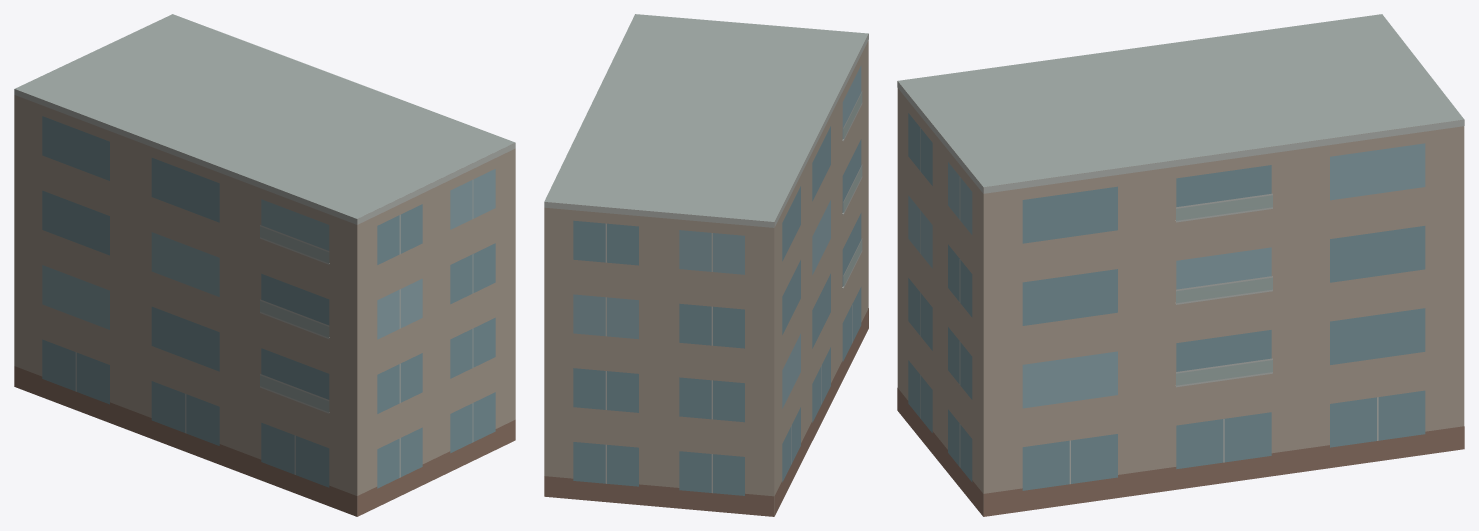
Rendered from survey-upis-32965310.glb.
3 views of the same model, side by side, from view 1: azimuth 30°, elevation 25°; view 2: azimuth 150°, elevation 25°; view 3: azimuth 270°, elevation 25° (orthographic). The views are drawn at different scales.
Parts seen in each view (by area): view 1: survey-upis-32965310.tmp; view 2: survey-upis-32965310.tmp; view 3: survey-upis-32965310.tmp.
Part boxes in pixels (<box>): survey-upis-32965310.tmp: <box>14,14,515,516</box>; survey-upis-32965310.tmp: <box>544,14,868,516</box>; survey-upis-32965310.tmp: <box>897,14,1464,516</box>.
Bounding box in the file's own units: 13.77 × 12.2 × 19.03.
